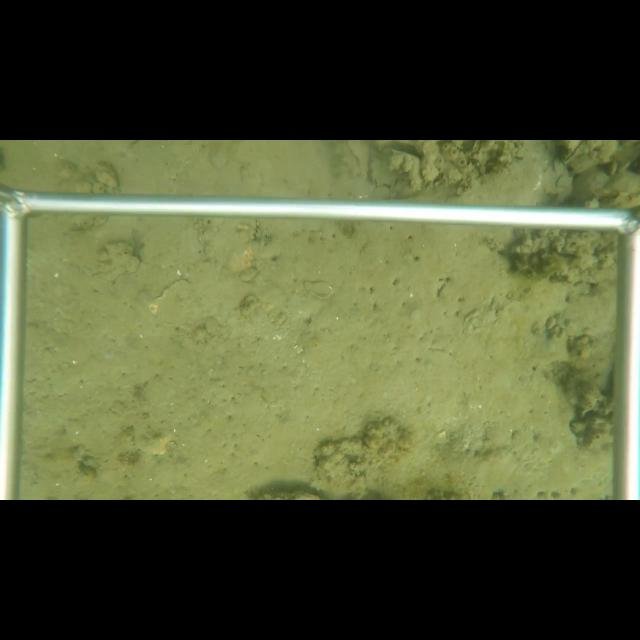Oyster-Open: (560, 142, 587, 166)
